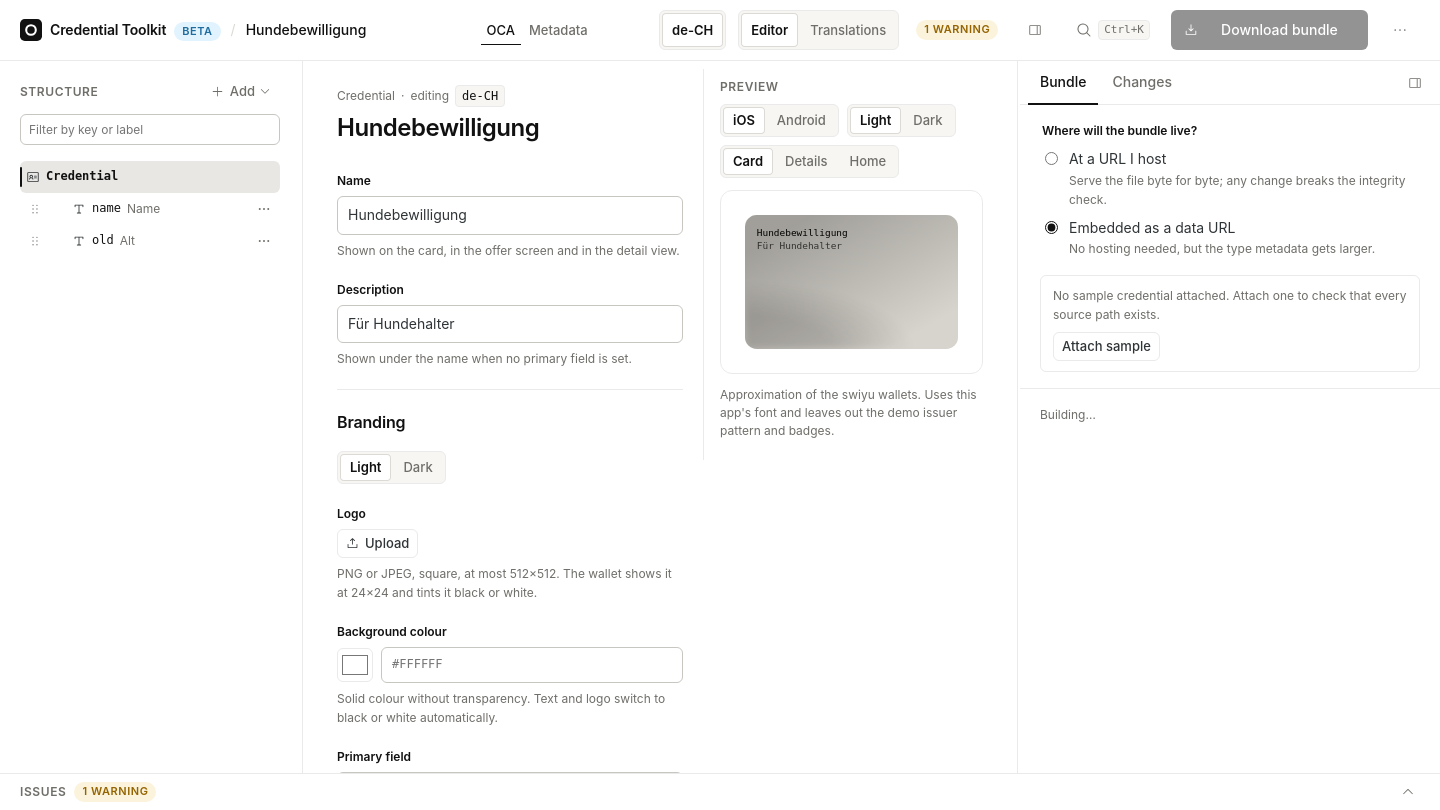
Test case: Changes tab › says there are no changes when the project matches the published bundle
This screenshot has width=1440, height=810.
Click the tab "Changes": (1142, 83) left=1100, top=61, right=1184, bottom=105
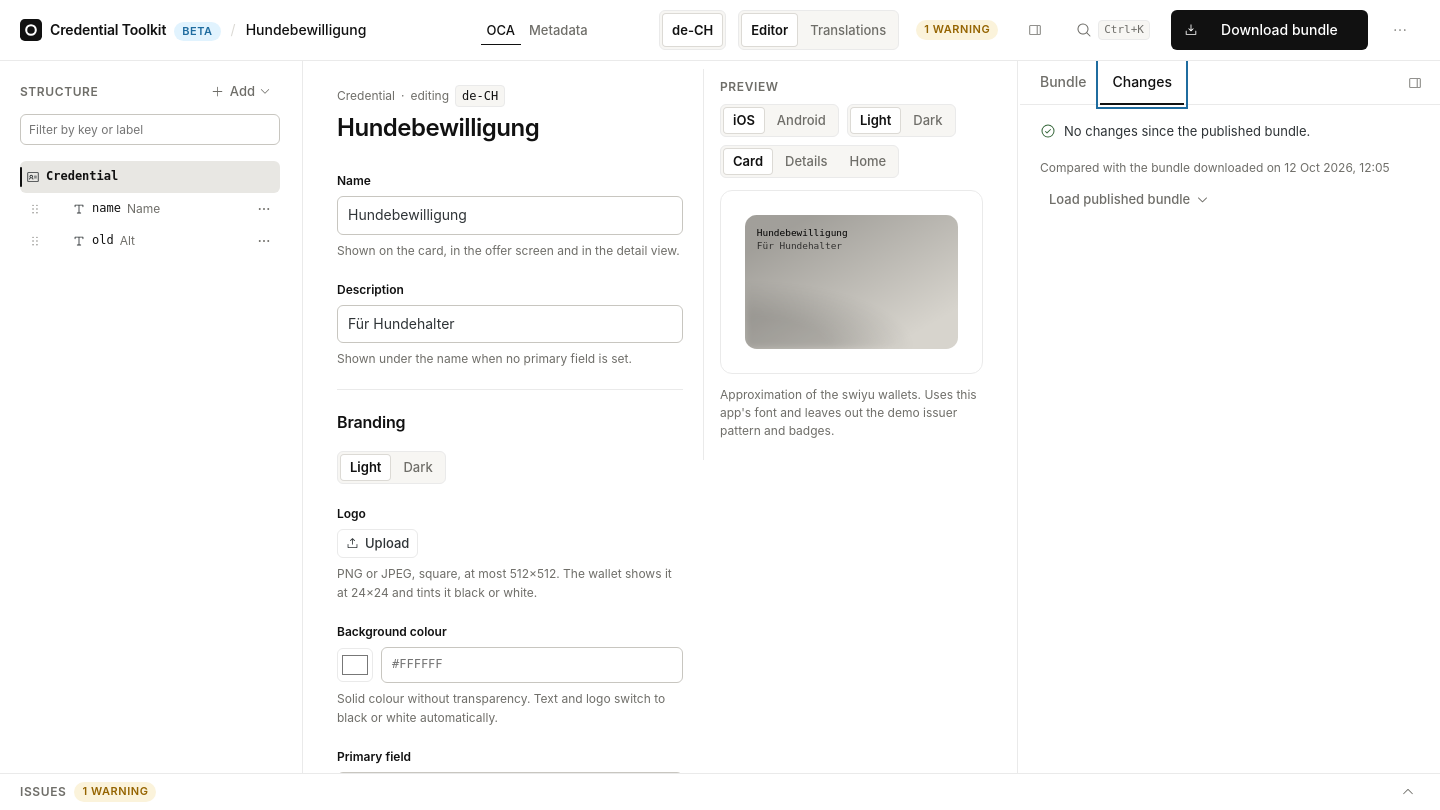
Result: the text "No changes since the published bundle." is shown at left=1040, top=123, right=1310, bottom=139
